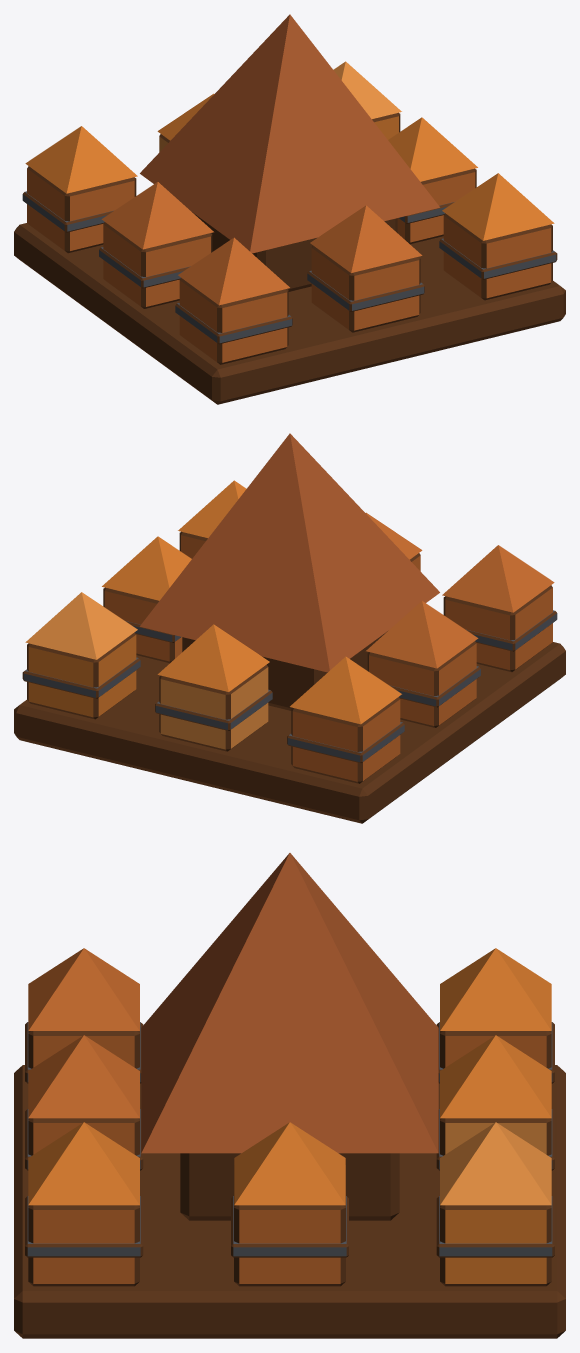
The model's file is block_wood_cap_corner.glb.
3 views of the same model, one above another, from view 1: azimuth 30°, elevation 25°; view 2: azimuth 150°, elevation 25°; view 3: azimuth 270°, elevation 25° (orthographic). The views are drawn at different scales.
Visible parts, largest first — view 1: WoodCapCorner; view 2: WoodCapCorner; view 3: WoodCapCorner.
Boxes of the visible parts, x1,y1,x2,y2 form: WoodCapCorner: (14, 14, 565, 404); WoodCapCorner: (14, 433, 565, 823); WoodCapCorner: (14, 853, 565, 1338).
Size of the model in its own units: 1.26 by 0.94 by 1.26.
